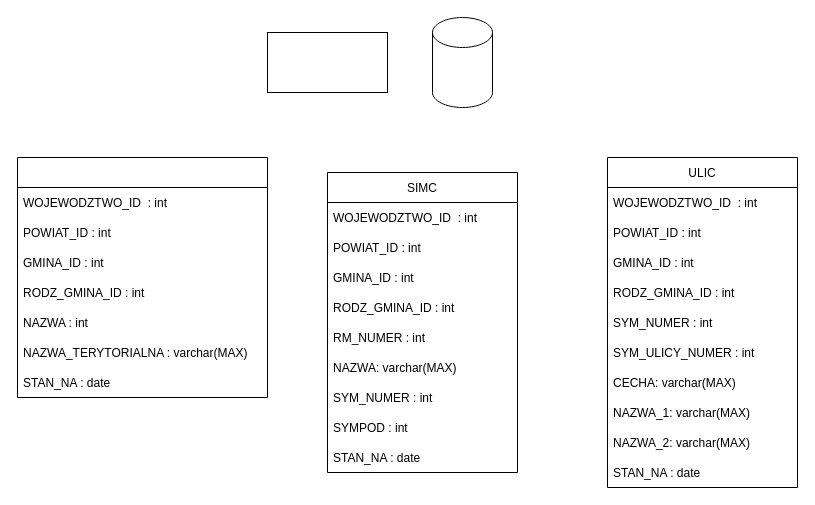
This 815x505 diagram has some shape labels left out. The box of each missing label's shape, as (x1, y1, x2, y2) in pixels:
TERC: (16, 156, 268, 398)
Teryt Database: (266, 32, 388, 92)
